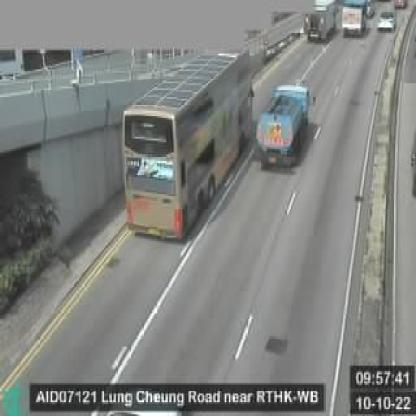Bus: (121, 46, 250, 240)
Car: (378, 9, 396, 32)
Truck: (253, 80, 313, 167), (308, 0, 340, 43), (344, 0, 369, 41)
